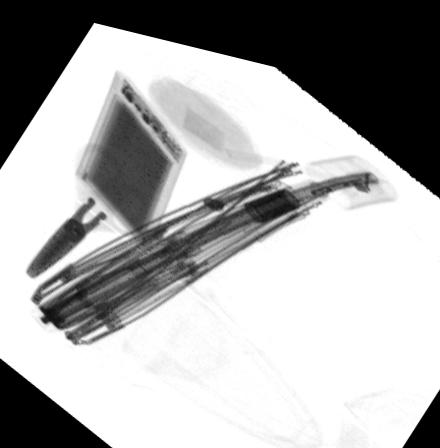Powerbank: (73, 59, 191, 247)
Scissors: (19, 134, 167, 279)
